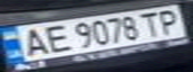0: (90, 17, 112, 46)
7: (106, 15, 127, 43)
8: (118, 12, 142, 42)
9: (69, 19, 93, 49)
A: (15, 25, 51, 57)
E: (36, 22, 72, 54)
P: (151, 7, 187, 35)
T: (136, 9, 166, 37)
